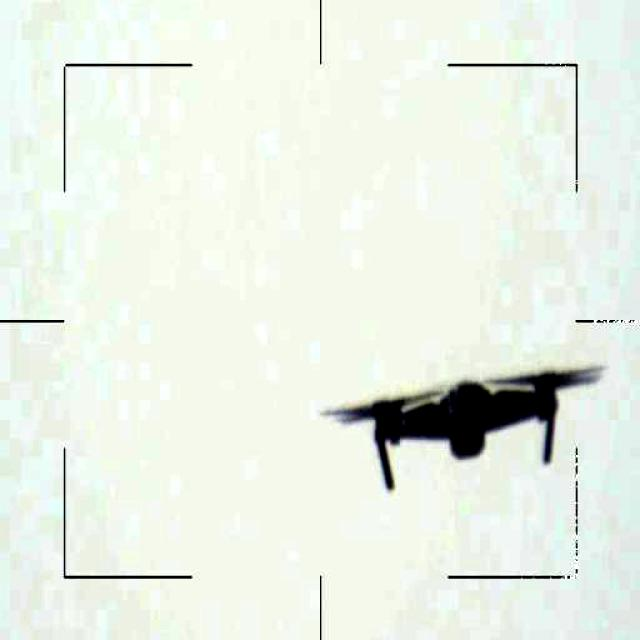bird: (324, 346, 604, 494)
